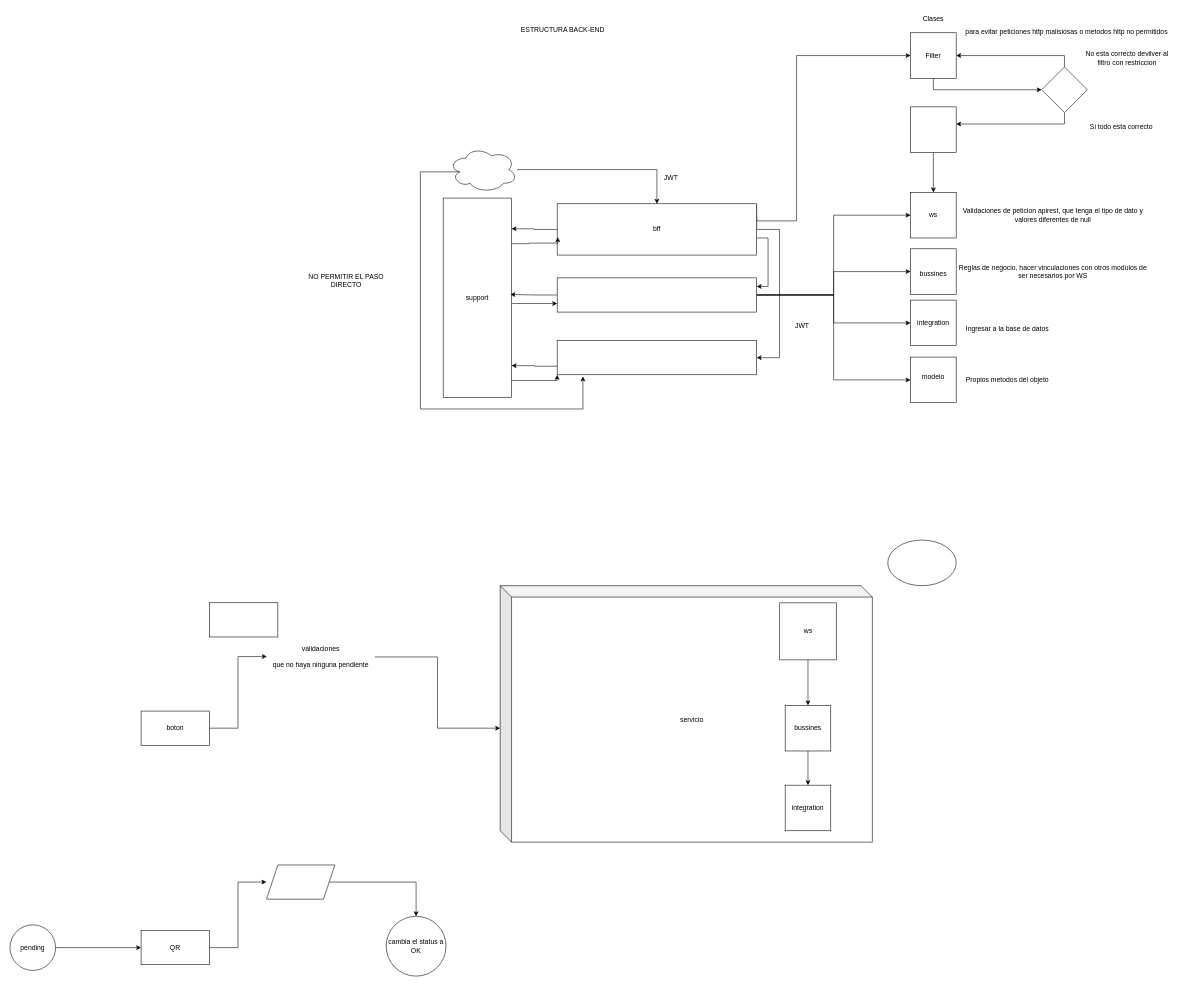
Some shapes in this 1185 by 986 pixel diagram are drawn without their labels. Here are the shapes that lost their labels. From the top down, the centre of each, then its label:
At point (1064, 89): "si / no".
At point (933, 129): "orquest".
At point (482, 169): "Peticiones cliente".
At point (657, 294): "security".
At point (657, 357): "tradeHub".
At point (921, 563): "status pending - : ok".
At point (300, 881): "escanea la compañia".
